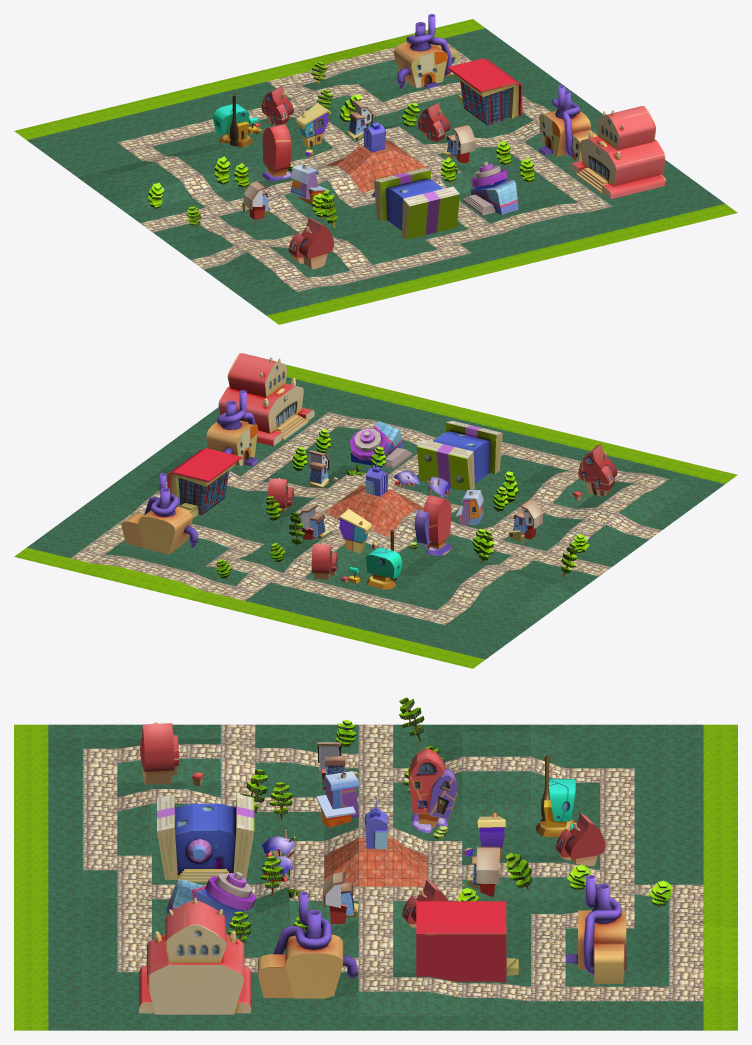
The model's file is Levl_1.fbx.
3 views of the same model, one above another, from view 1: azimuth 30°, elevation 25°; view 2: azimuth 150°, elevation 25°; view 3: azimuth 270°, elevation 25° (orthographic). The views are drawn at different scales.
Visible parts, largest first — view 1: polySurface171, THEATER, BANK, LIBRARY, FABRIKA, FABRIKA1, GYMNASIUM, New_Dom010, New_Dom03, New_Dom04, New_Dom05, New_Dom01 (+6 smaller); view 2: polySurface171, THEATER, BANK, FABRIKA, LIBRARY, FABRIKA1, GYMNASIUM, New_Dom03, New_Dom010, New_Dom04, New_Dom05, New_Dom09 (+6 smaller); view 3: polySurface171, THEATER, LIBRARY, BANK, FABRIKA1, FABRIKA, New_Dom03, GYMNASIUM, New_Dom010, New_Dom04, New_Dom01, New_Dom06 (+10 smaller).
Part boxes in pixels (x1=…): polySurface171: x1=14, y1=19, x2=737, y2=324; THEATER: x1=570, y1=106, x2=666, y2=198; BANK: x1=374, y1=168, x2=459, y2=239; LIBRARY: x1=447, y1=58, x2=522, y2=125; FABRIKA: x1=393, y1=14, x2=459, y2=88; FABRIKA1: x1=539, y1=85, x2=597, y2=161; GYMNASIUM: x1=463, y1=161, x2=518, y2=215; New_Dom010: x1=288, y1=217, x2=333, y2=269; New_Dom03: x1=261, y1=124, x2=294, y2=181; New_Dom04: x1=213, y1=94, x2=262, y2=147; New_Dom05: x1=296, y1=103, x2=331, y2=156; New_Dom01: x1=290, y1=164, x2=326, y2=206; polySurface171: x1=14, y1=364, x2=737, y2=668; THEATER: x1=218, y1=353, x2=314, y2=445; BANK: x1=416, y1=420, x2=502, y2=491; FABRIKA: x1=121, y1=473, x2=197, y2=554; LIBRARY: x1=167, y1=448, x2=241, y2=517; FABRIKA1: x1=206, y1=390, x2=258, y2=466; GYMNASIUM: x1=349, y1=421, x2=412, y2=468; New_Dom03: x1=409, y1=495, x2=451, y2=555; New_Dom010: x1=572, y1=444, x2=617, y2=501; New_Dom04: x1=348, y1=530, x2=402, y2=589; New_Dom05: x1=337, y1=509, x2=378, y2=553; New_Dom09: x1=508, y1=499, x2=542, y2=544; polySurface171: x1=14, y1=724, x2=737, y2=1030; THEATER: x1=139, y1=897, x2=250, y2=1014; LIBRARY: x1=416, y1=901, x2=518, y2=982; BANK: x1=157, y1=794, x2=254, y2=882; FABRIKA1: x1=257, y1=891, x2=357, y2=998; FABRIKA: x1=565, y1=875, x2=626, y2=983; New_Dom03: x1=408, y1=748, x2=457, y2=839; GYMNASIUM: x1=166, y1=872, x2=256, y2=925; New_Dom010: x1=140, y1=722, x2=203, y2=786; New_Dom04: x1=535, y1=755, x2=576, y2=836; New_Dom01: x1=316, y1=771, x2=358, y2=828; New_Dom06: x1=556, y1=813, x2=605, y2=866.
Size of the model in its own units: 504 by 78.31 by 504.
